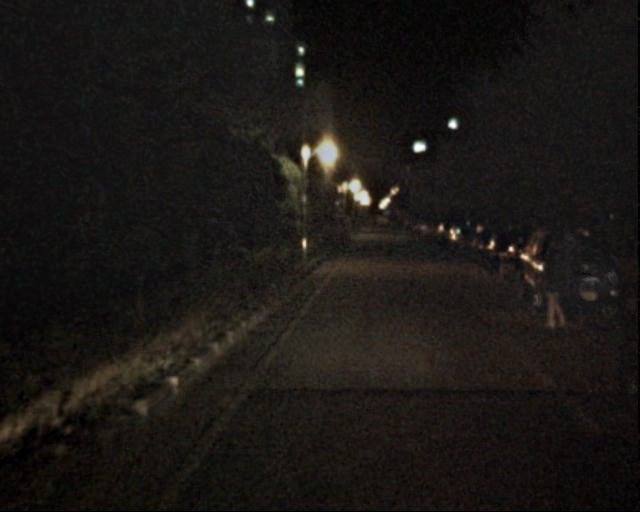person: (546, 225, 585, 321), (532, 244, 569, 334)
